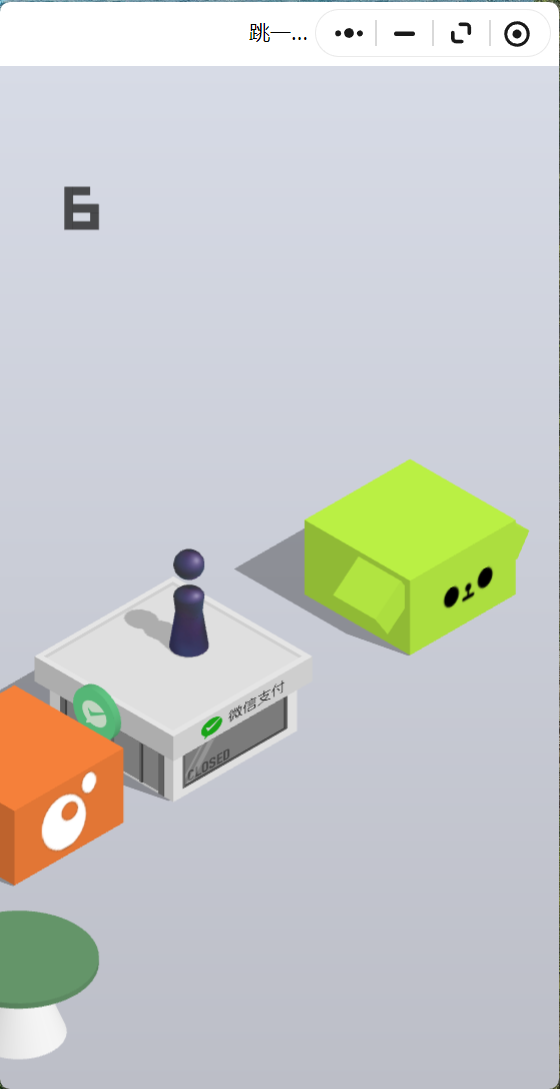piece: (174, 549, 205, 657)
target: (305, 459, 515, 581)
